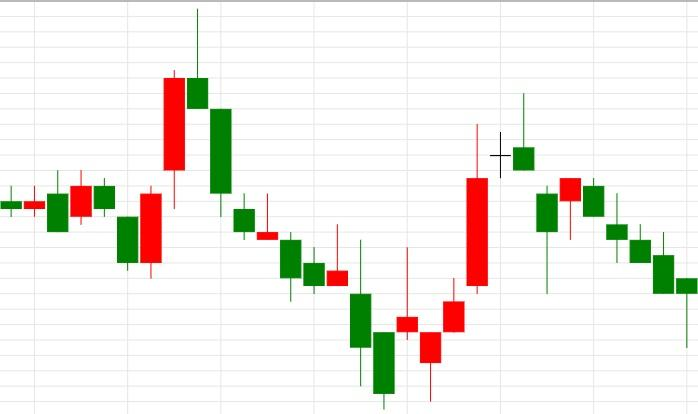bullish_engulfing_rise: (69, 171, 163, 279)
inverse_hammer_rise: (187, 8, 349, 302)
shooting_star_fall: (420, 93, 535, 402), (117, 8, 209, 278)
three_black_crows_fall: (117, 8, 256, 278)
